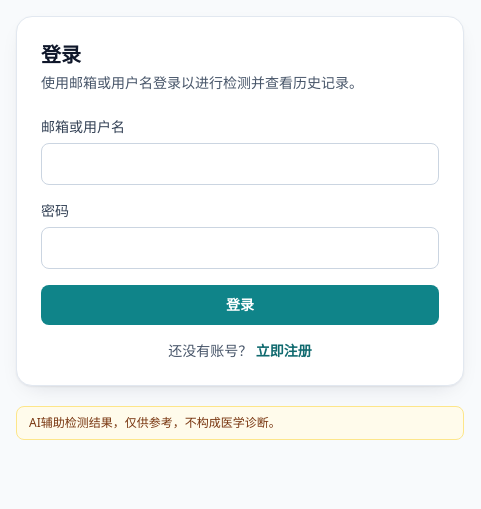
LoginPage › submits credentials and reports backend errors
Type "tester" into the field with test id "login-identifier" at coordinates (240, 164), box x1=41 y1=143 x2=439 y2=185
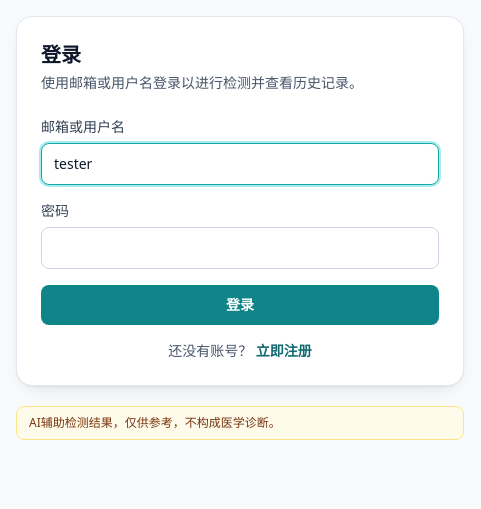
Type "wrongpass1" into the password field with test id "login-password" at coordinates (240, 248), box x1=41 y1=227 x2=439 y2=269
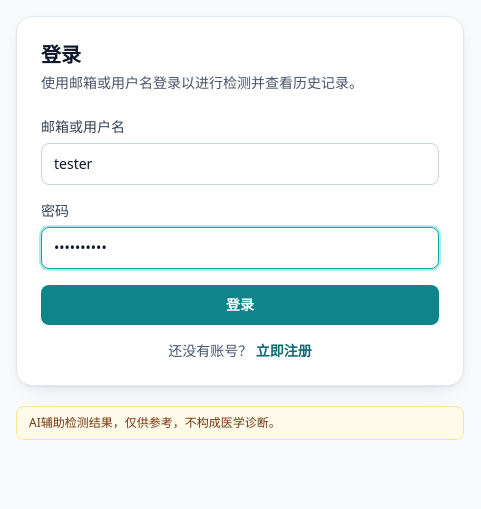
Click the button with test id "login-submit" at coordinates (240, 305), box x1=41 y1=285 x2=439 y2=325
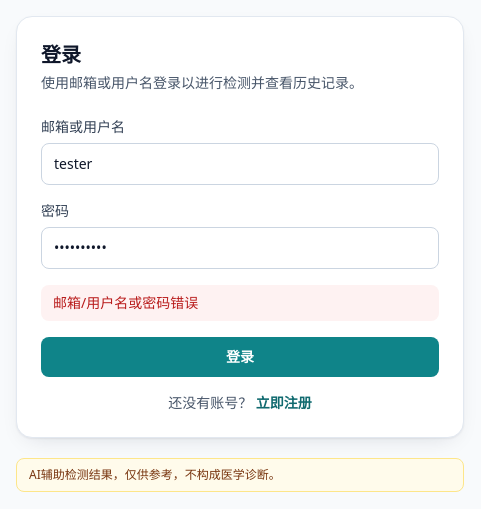
Now the message with test id "login-error" reads "邮箱/用户名或密码错误", box x1=53 y1=293 x2=198 y2=312
